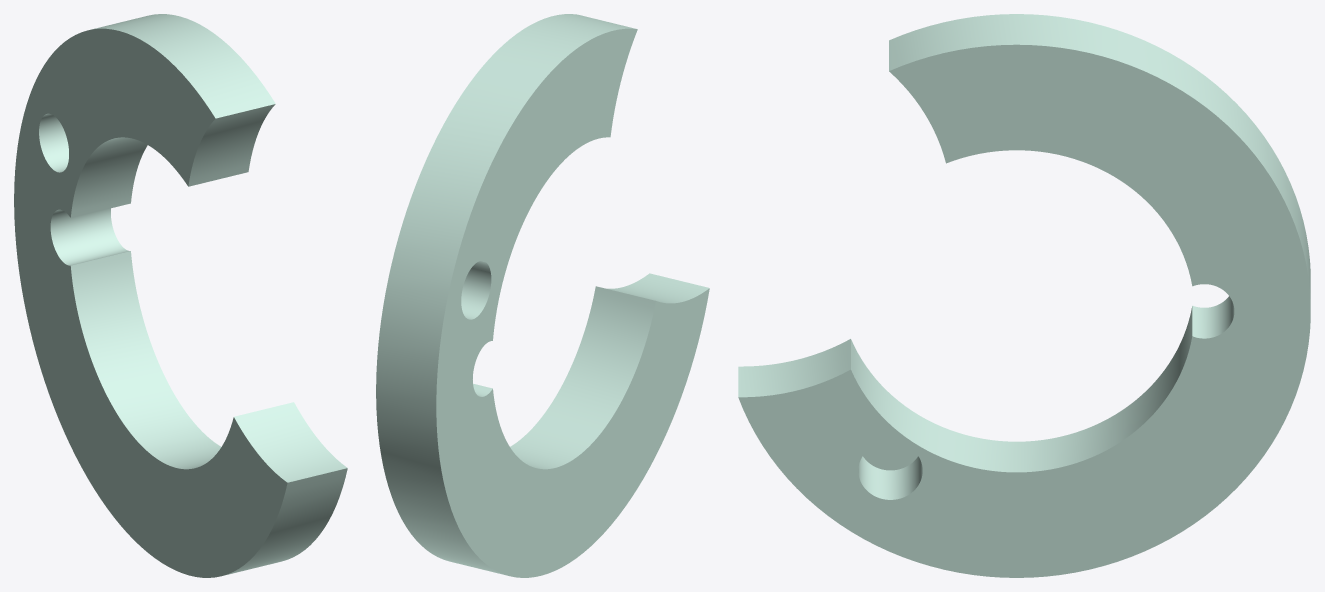
The picture shows the model from 3 angles, left to right: view 1: azimuth 30°, elevation 25°; view 2: azimuth 150°, elevation 25°; view 3: azimuth 270°, elevation 25°; orthographic projection. The views are drawn at different scales.
Visible parts, largest first — view 1: Renderer Node; view 2: Renderer Node; view 3: Renderer Node.
Boxes of the visible parts, x1=… form: Renderer Node: x1=14, y1=14, x2=347, y2=577; Renderer Node: x1=376, y1=14, x2=709, y2=577; Renderer Node: x1=738, y1=14, x2=1310, y2=577.
Bounding box in the file's own units: 0.1875 × 1.52 × 1.48.
